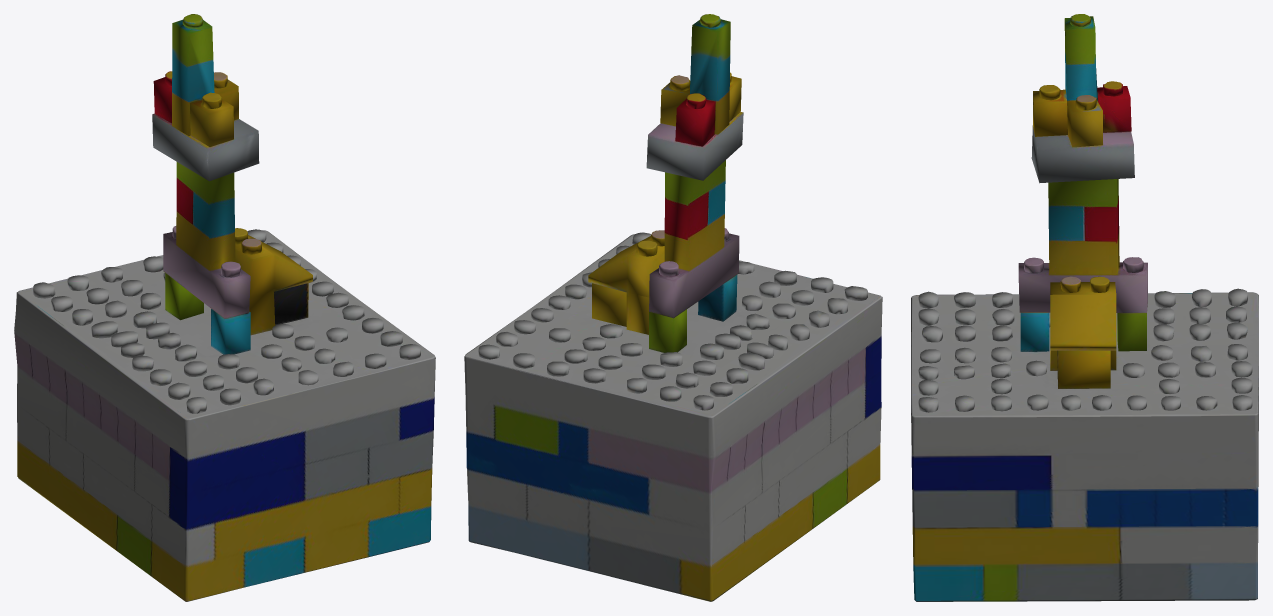
The model's file is object_10_asset_cf09cfab.glb.
3 views of the same model, side by side, from view 1: azimuth 30°, elevation 25°; view 2: azimuth 150°, elevation 25°; view 3: azimuth 270°, elevation 25° (orthographic).
Visible parts, largest first — view 1: tripo_node_bbe33485-a3ab-4a7b-bf76-985ee00cd0d8; view 2: tripo_node_bbe33485-a3ab-4a7b-bf76-985ee00cd0d8; view 3: tripo_node_bbe33485-a3ab-4a7b-bf76-985ee00cd0d8.
Boxes of the visible parts, x1,y1,x2,y2 form: tripo_node_bbe33485-a3ab-4a7b-bf76-985ee00cd0d8: [14, 14, 435, 601]; tripo_node_bbe33485-a3ab-4a7b-bf76-985ee00cd0d8: [464, 14, 882, 601]; tripo_node_bbe33485-a3ab-4a7b-bf76-985ee00cd0d8: [911, 14, 1258, 601].
Size of the model in its own units: 0.5254 by 0.998 by 0.6191.
Materials: 1 (1 with a texture image).
